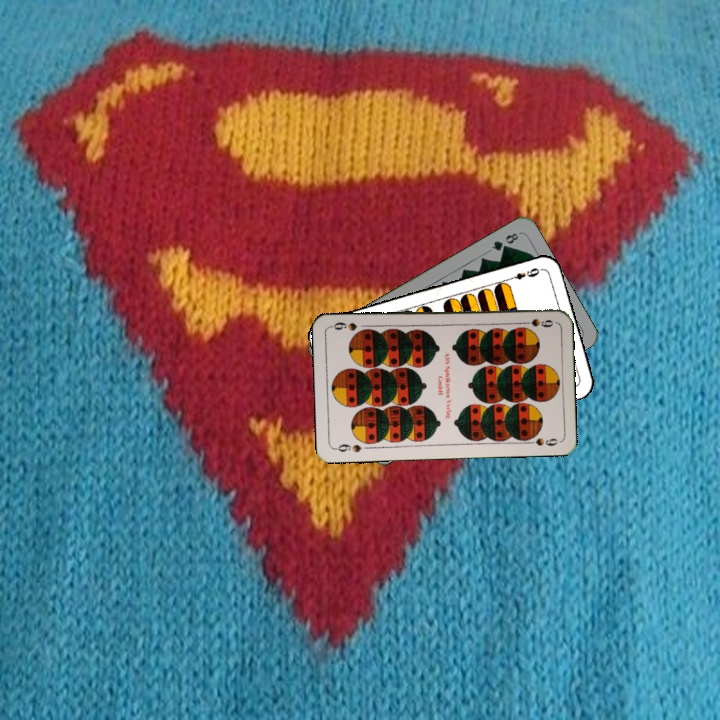E9: (504, 264, 543, 283)
G8: (487, 229, 522, 254)
S9: (516, 315, 556, 330), (331, 440, 364, 455)
